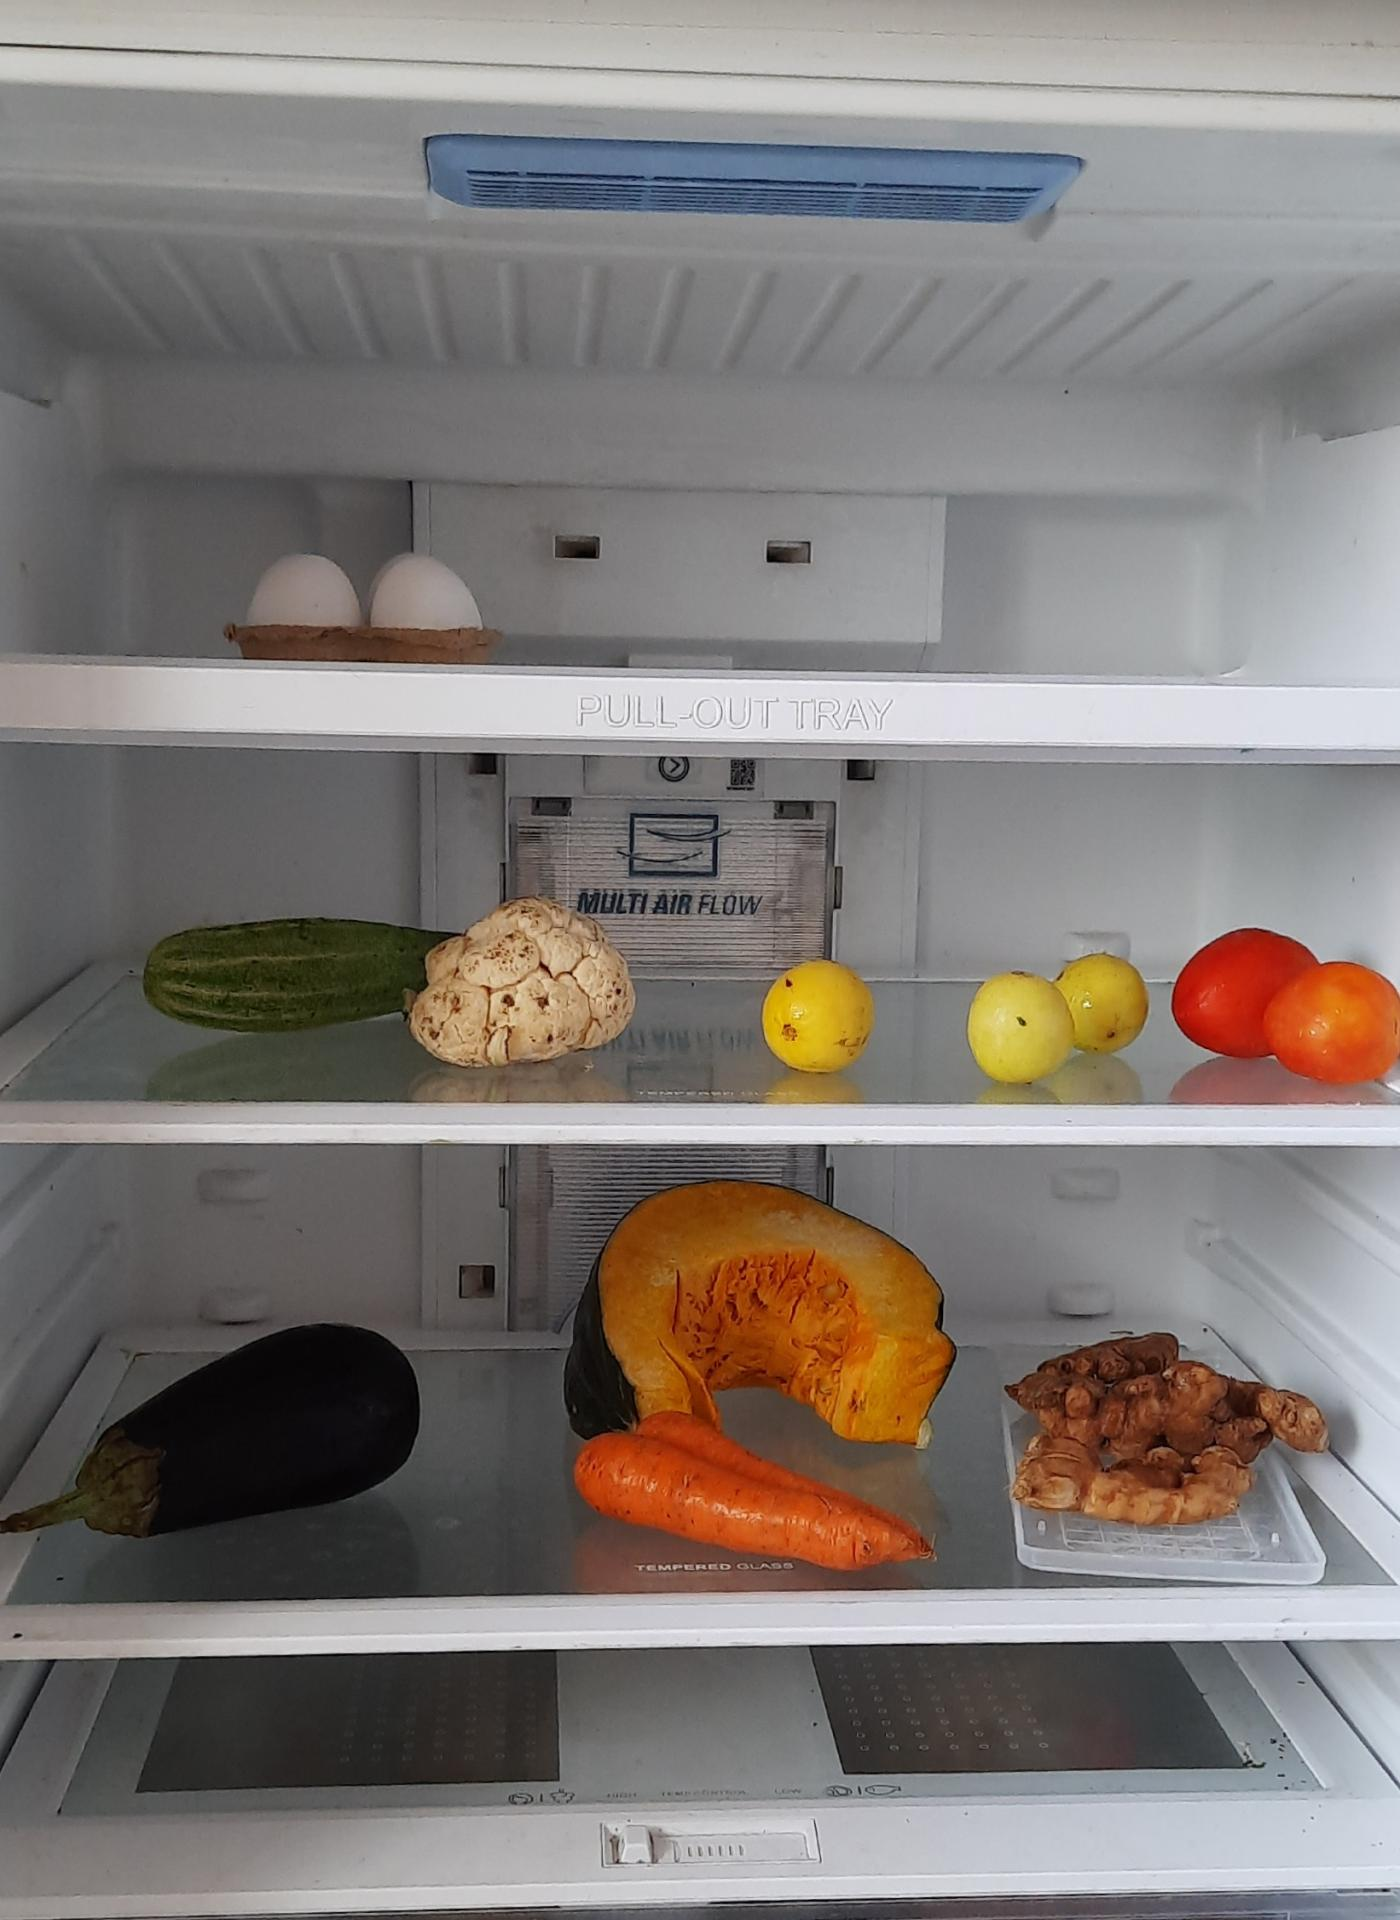brinjal: (27, 1315, 434, 1529)
carrots: (584, 1412, 947, 1553)
cauliflower: (417, 872, 665, 1093)
cucumber: (130, 914, 496, 1024)
egg: (239, 546, 501, 663)
ginger: (1014, 1304, 1334, 1520)
lemon: (963, 944, 1150, 1082), (756, 950, 881, 1070)
pumpkin: (565, 1181, 951, 1444)
tomato: (1173, 926, 1397, 1090)
